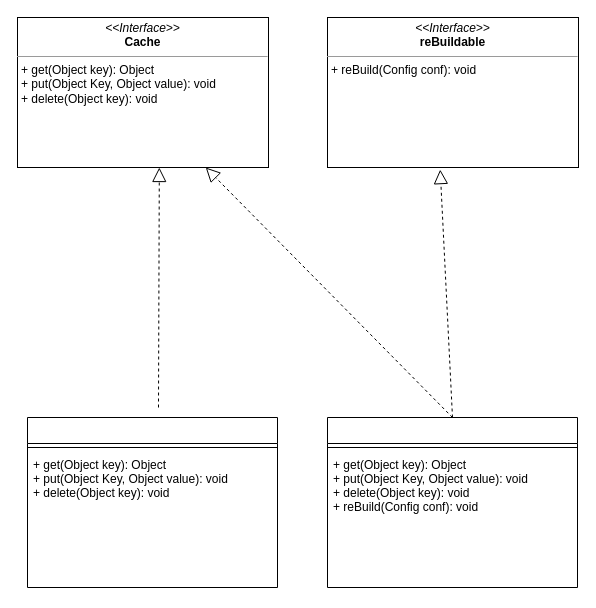
Image size: 596x608. Some labels were removed from this diagram. The shapes that lost their labels are listed below. From the top down, each one's box as (x1, y1, x2, y2) in pixels, then its label:
(26, 416, 278, 588): DefaultCache
(326, 416, 578, 588): RebuildableCache
